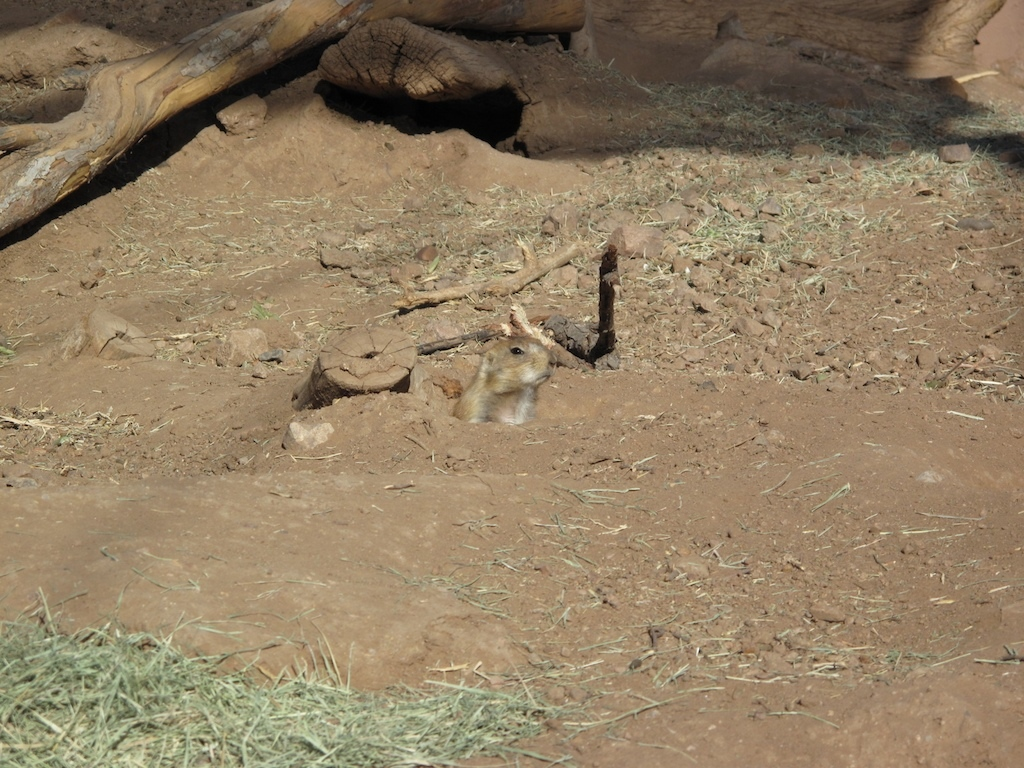Animal: (454, 334, 553, 423)
